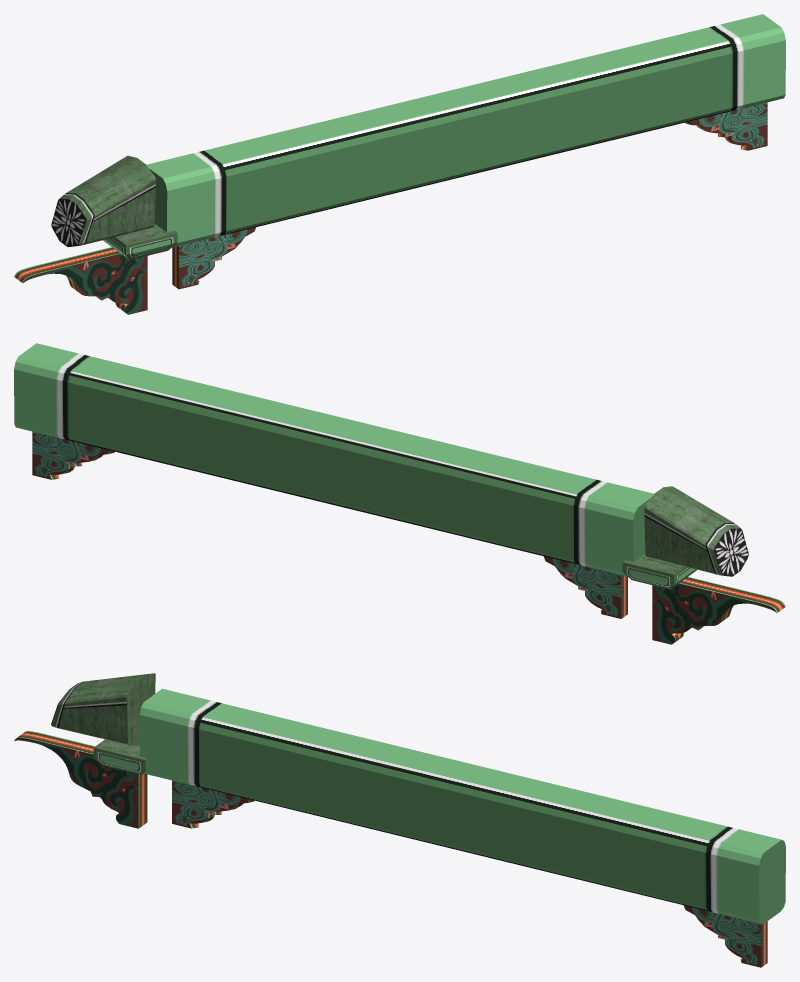
The model's file is SM_R_Beam_10.fbx.
3 views of the same model, one above another, from view 1: azimuth 30°, elevation 25°; view 2: azimuth 150°, elevation 25°; view 3: azimuth 330°, elevation 25° (orthographic).
Parts seen in each view (by area): view 1: SM_R_Beam_10; view 2: SM_R_Beam_10; view 3: SM_R_Beam_10.
Boxes of the visible parts, left/top/right/bottom form: SM_R_Beam_10: left=14, top=14, right=785, bottom=314; SM_R_Beam_10: left=14, top=343, right=785, bottom=644; SM_R_Beam_10: left=14, top=673, right=785, bottom=967.
Size of the model in its own units: 446 by 32.84 by 82.72.
5 materials, 5 textured.
